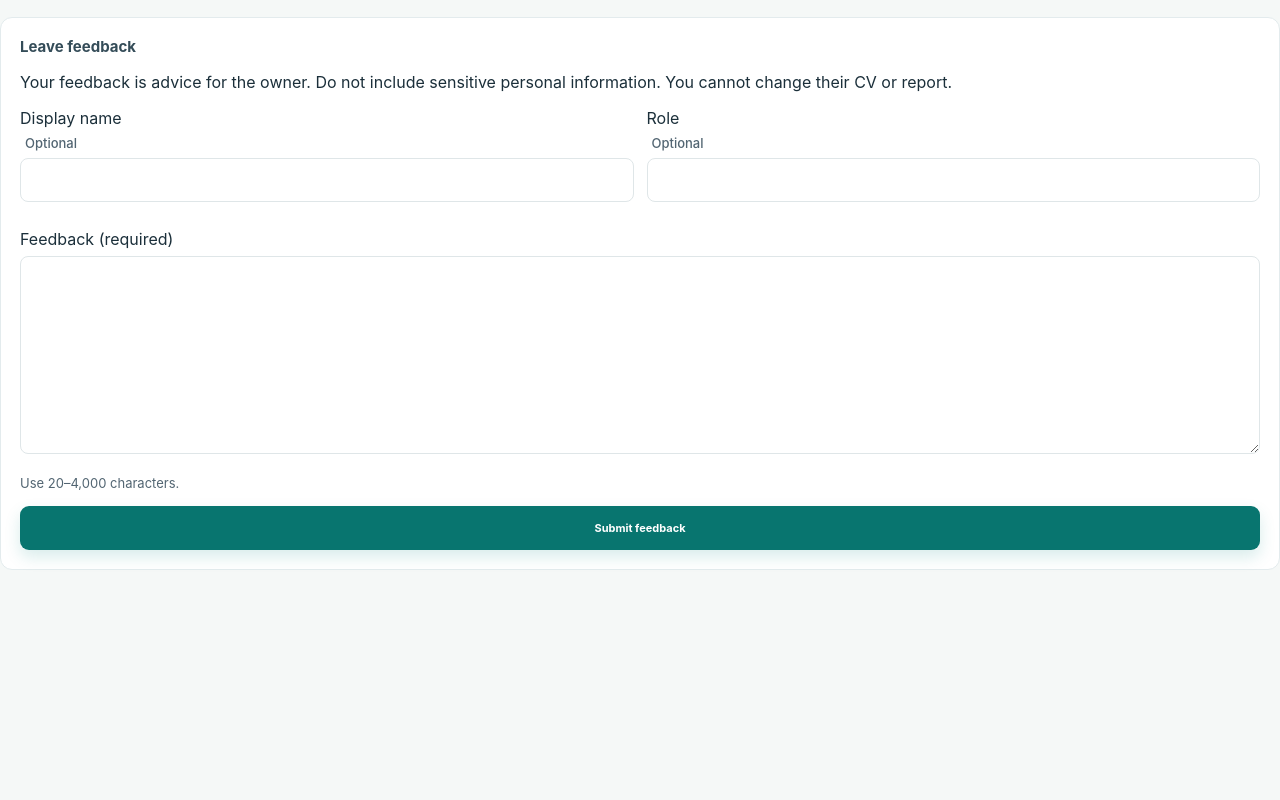
private reviewer feedback › preserves all entered data on failure and reuses the submission ID when retrying
In the field labelled "Display name Optional": (327, 180) [20,158,634,202], type "Test reviewer"
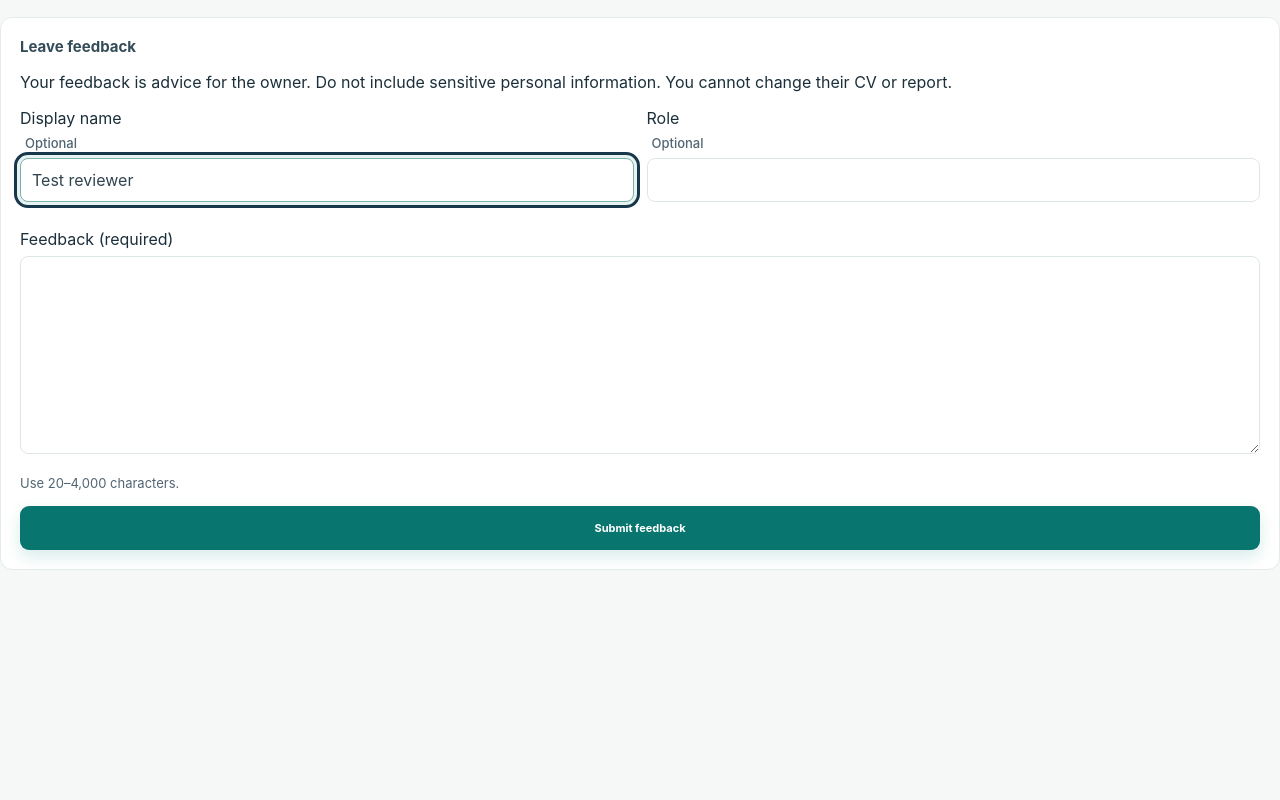
In the field labelled "Role Optional": (953, 180) [646,158,1260,202], type "Mentor"
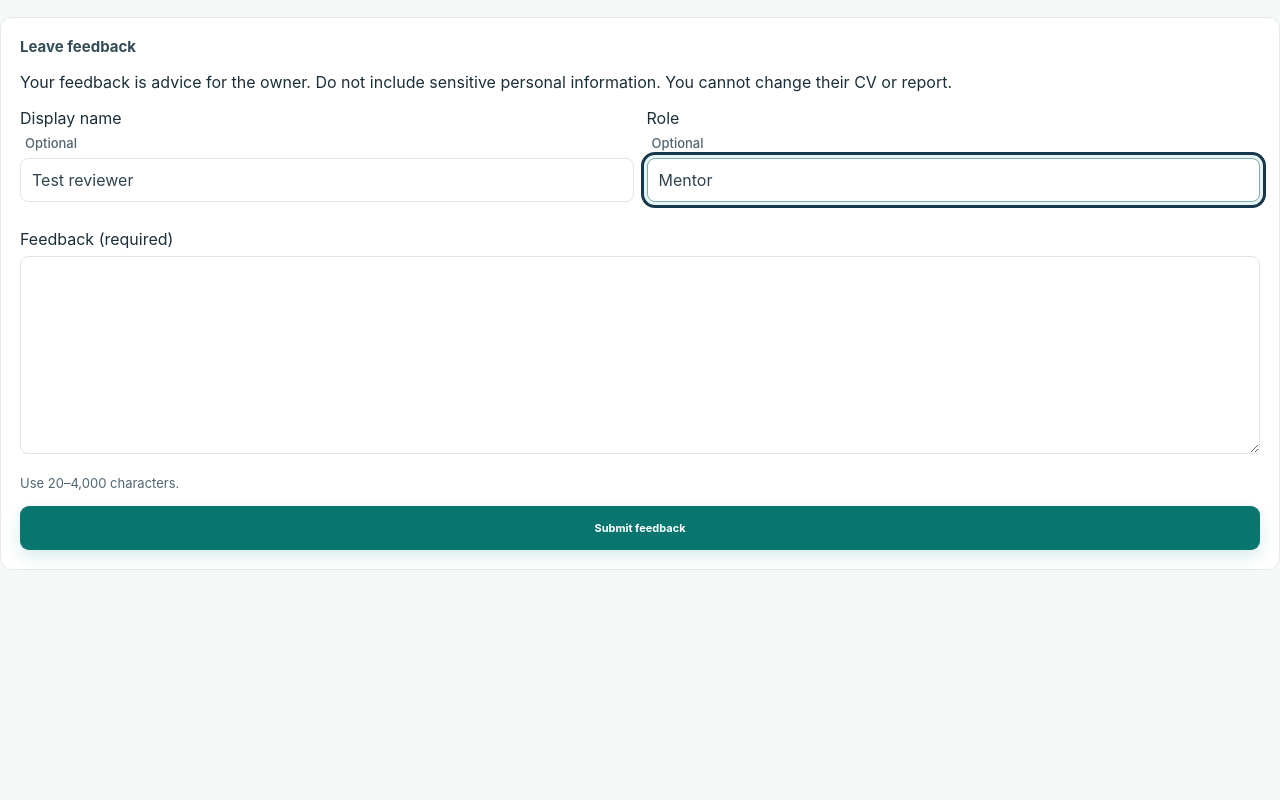
In the text box labelled "Feedback (required)": (640, 355) [20,256,1260,454], type "This is a useful example to expand on."
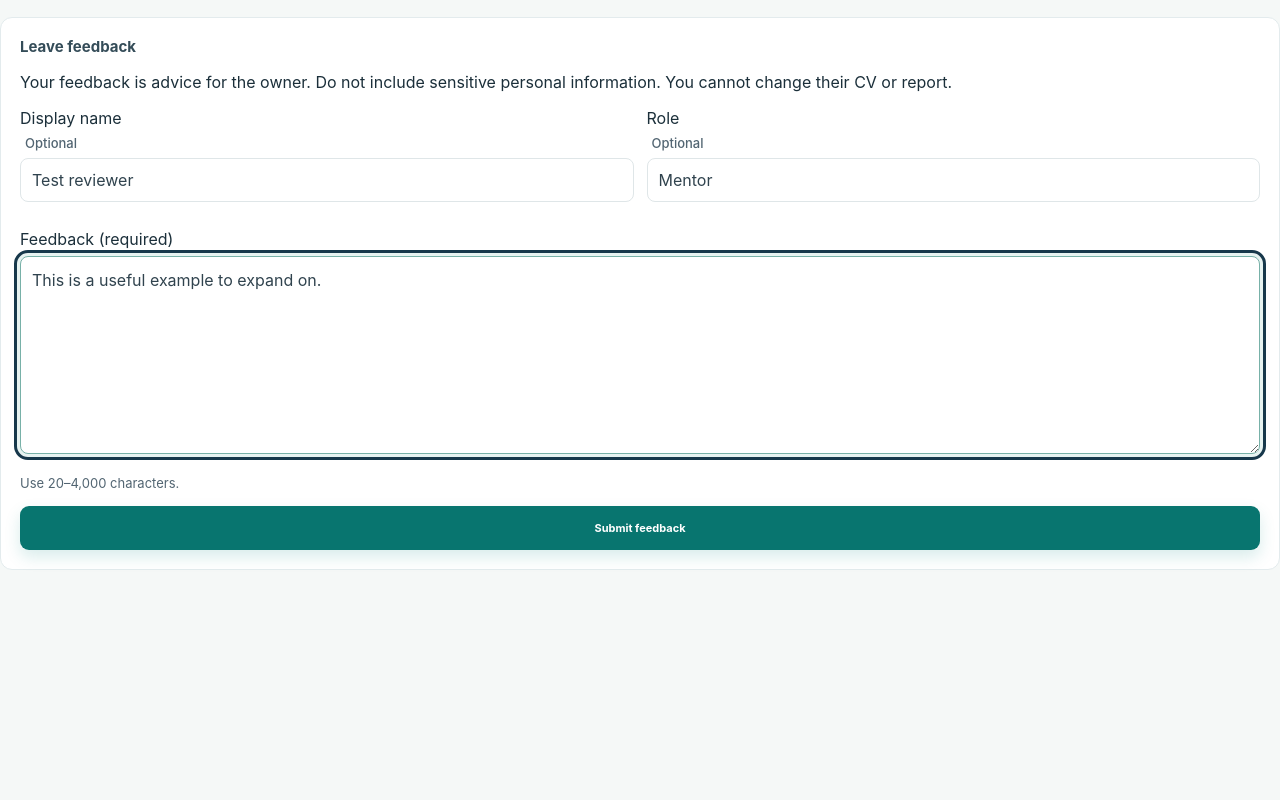
Click the button "Submit feedback": click(640, 528) [20,506,1260,550]
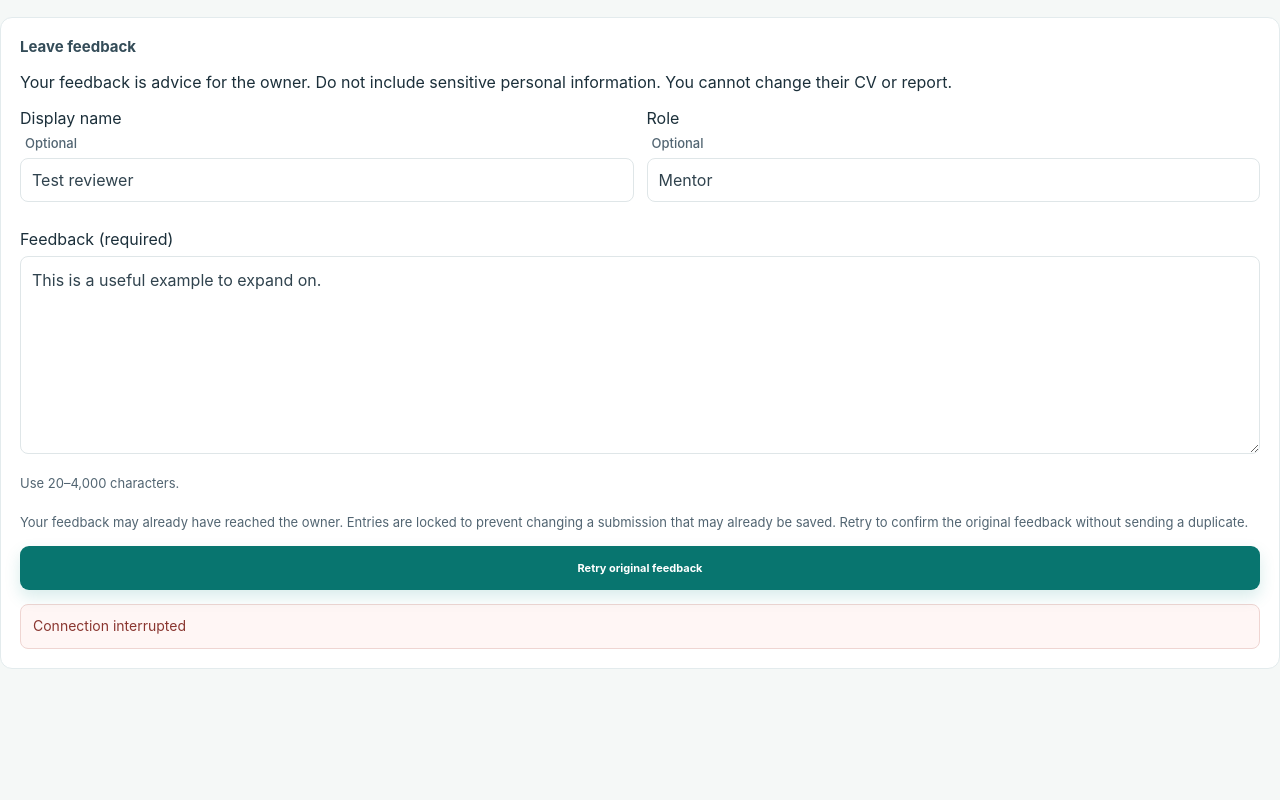
Check: the message "Connection interrupted" is shown, box [20,604,1260,649]
Click the button "Retry original feedback": click(640, 568) [20,546,1260,590]
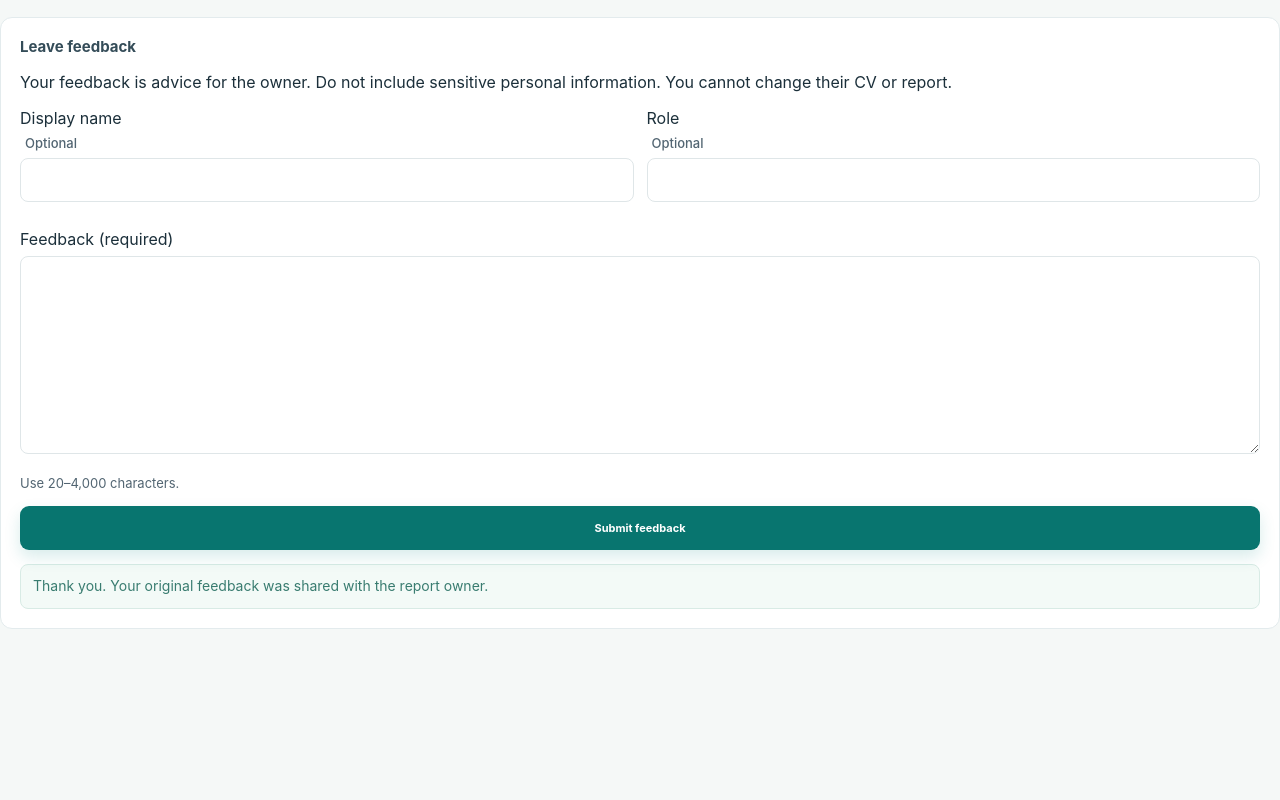
Check: the text "Thank you. Your original feedback was shared with the report owner." is shown, box [20,564,1260,609]
